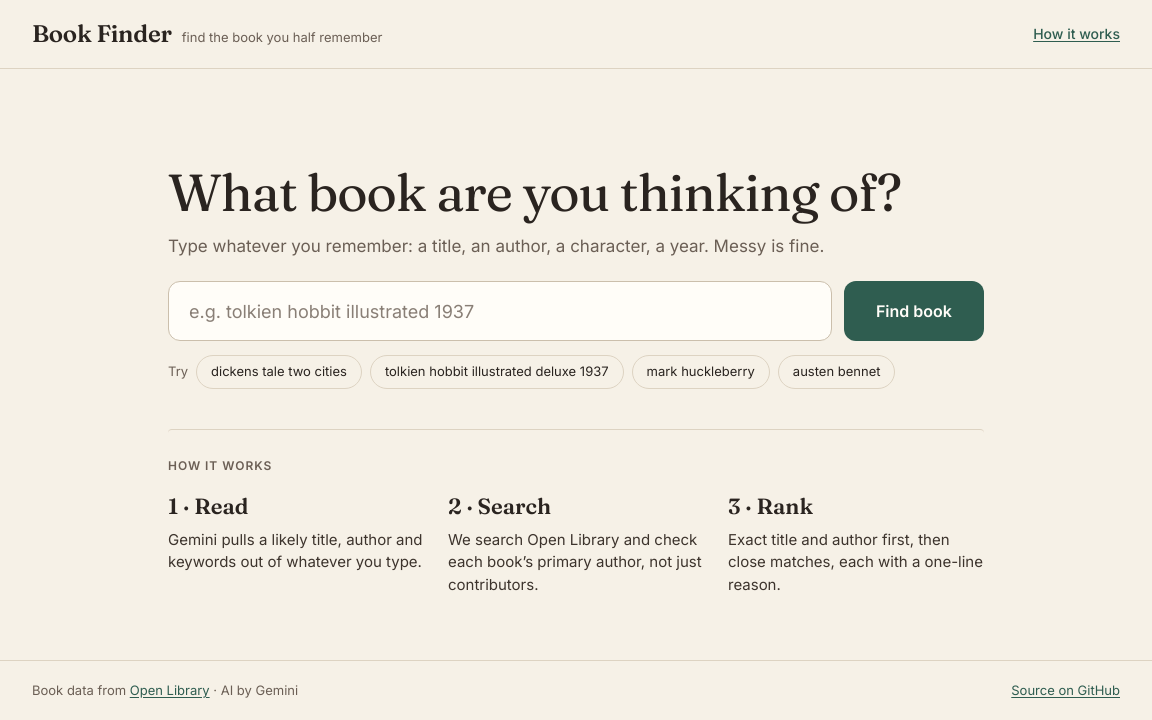
Scenario: App › says when Google refused the request rather than the search failing
Type "tolkien hobbit" into the search field labelled "What book are you thinking of?" at point(500, 311), box [168,281,832,341]
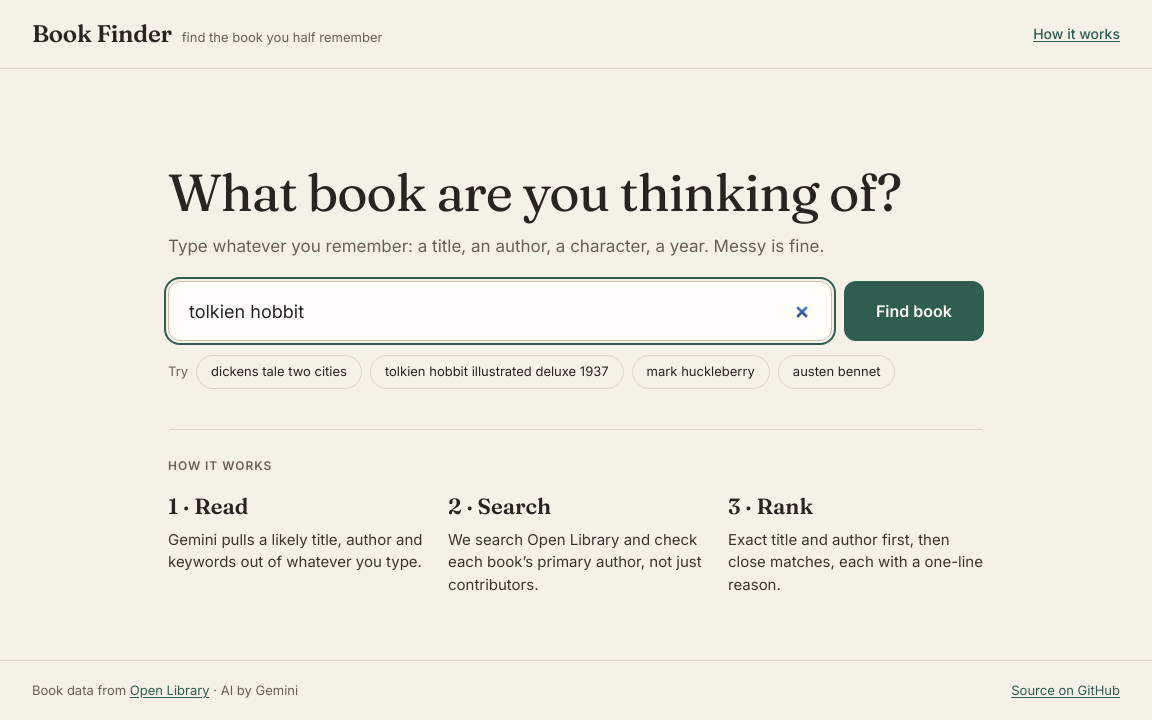
Click the button "Find book" at point(914, 311), box [844,281,984,341]
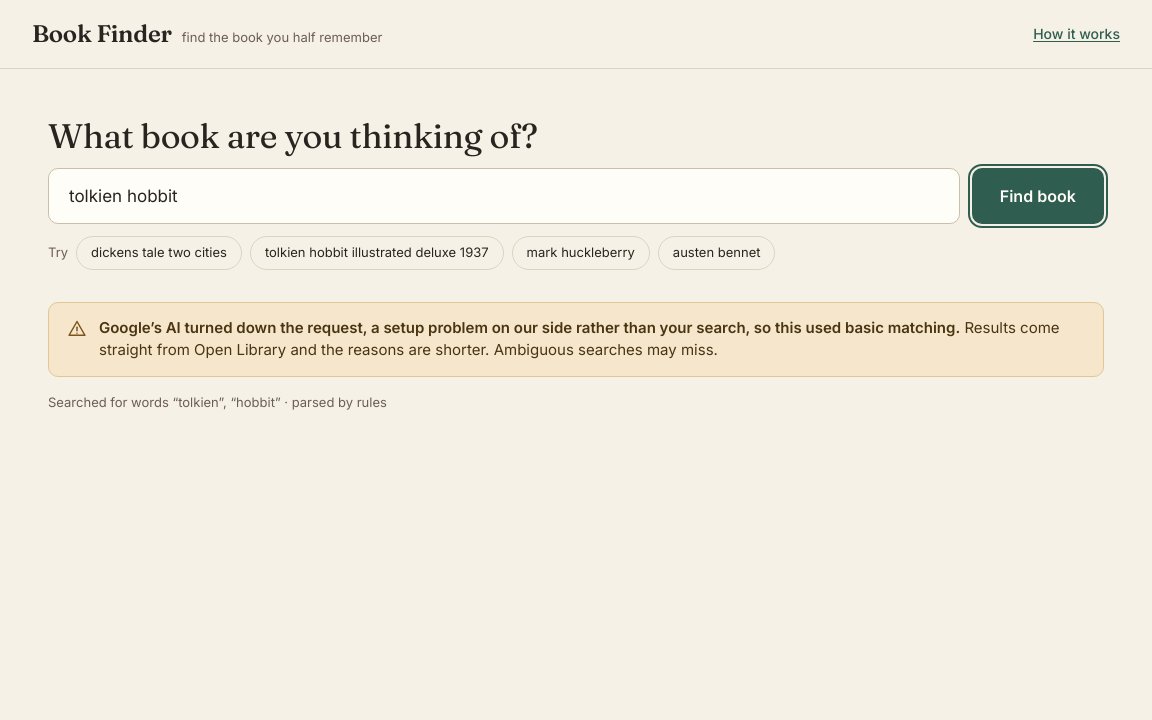
Expected: the text "a setup problem on our side rather than your search" is shown, [99,318,960,337]
